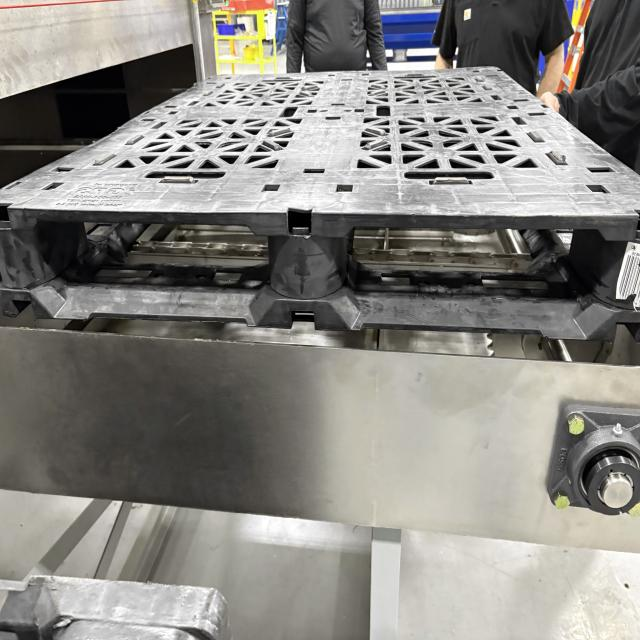igps: (0, 59, 640, 375)
